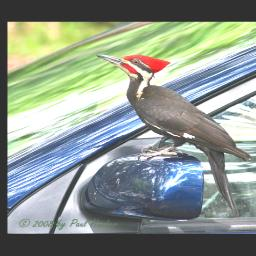Woodpecker: (94, 53, 255, 218)
